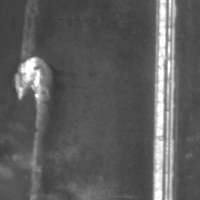scratches: (149, 0, 182, 199), (20, 23, 46, 199), (13, 56, 58, 114)
